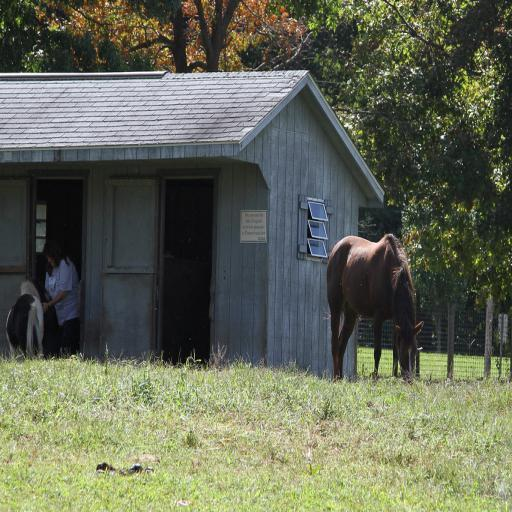horse: (324, 232, 424, 381), (2, 278, 46, 360)
